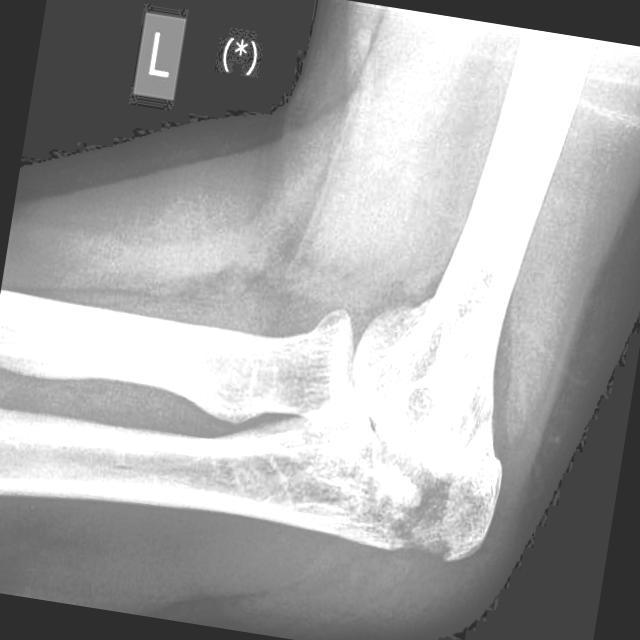Comminuted Fracture: (398, 433, 508, 570)
